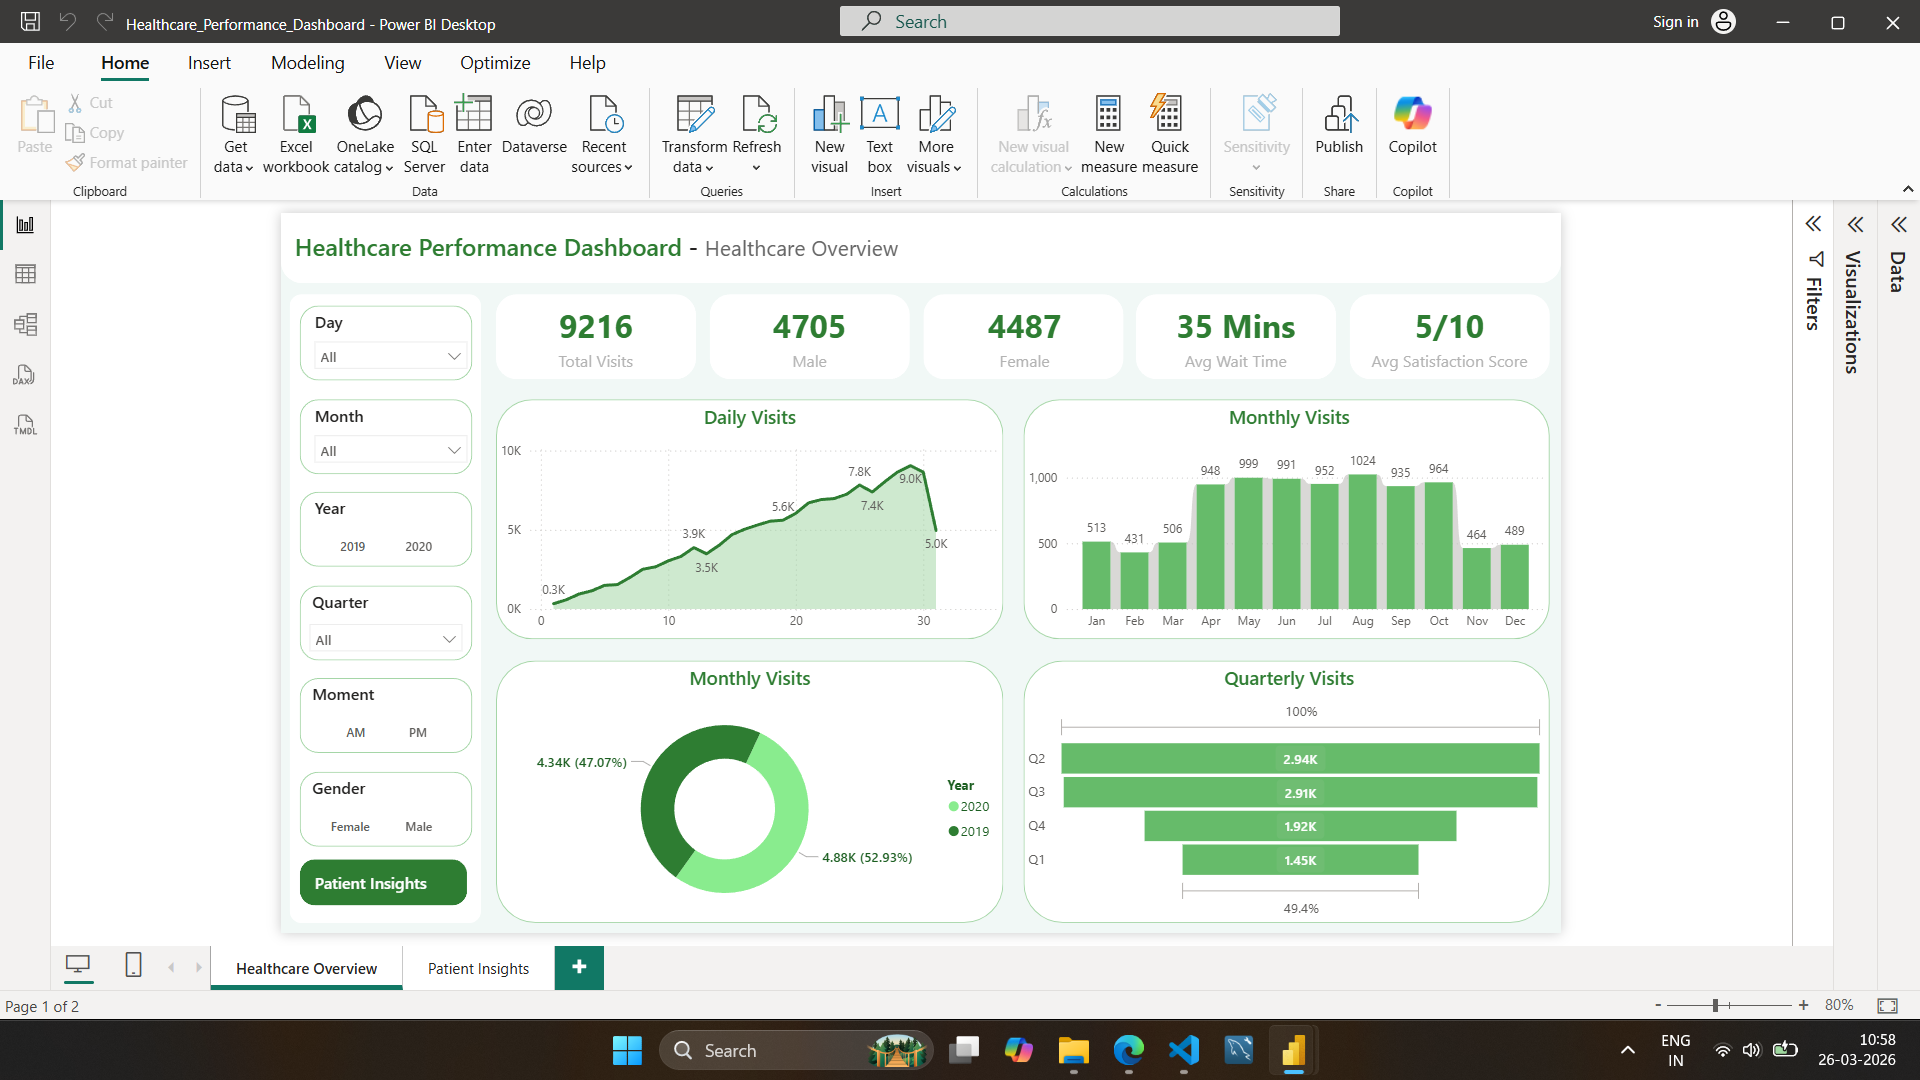

The page's visual inventory and layout, read from the dashboard file:
{"tool":"powerbi","page":{"name":"Healthcare Overview","canvas":[1280,720],"ordinal":0},"visuals":[{"type":"shape","box":[0,0,1280,70],"z":0},{"type":"shape","box":[214.7,81.2,200,85],"z":0,"group":"g1"},{"type":"shape","box":[1069,81.2,200,85],"z":0,"group":"g5"},{"type":"shape","box":[18.8,185.8,172.5,75],"z":0,"group":"g7"},{"type":"shape","box":[18.8,279,172.5,75],"z":0,"group":"g11"},{"type":"shape","box":[18.8,372.2,172.5,75],"z":0,"group":"g8"},{"type":"shape","box":[18.8,465.5,172.5,75],"z":0,"group":"g9"},{"type":"shape","box":[18.7,558.8,172.5,75],"z":0,"group":"g10"},{"type":"card","fields":{"Values":["activity_table.Avg Satisfaction Score"]},"box":[1079,82.4,180,82.5],"z":1000,"group":"g5"},{"type":"shape","box":[742.5,186.2,526.2,240],"z":1000},{"type":"slicer","fields":{"Values":["date_time_table.Month"]},"box":[28.8,217.3,162.5,41.2],"z":1000,"group":"g7"},{"type":"slicer","fields":{"Values":["date_time_table.Year"]},"box":[19.1,312.4,170,41.2],"z":1000,"group":"g11"},{"type":"slicer","fields":{"Values":["date_time_table.Quarter"]},"box":[23.8,406,162.5,41.2],"z":1000,"group":"g8"},{"type":"slicer","fields":{"Values":["date_time_table.Moment"]},"box":[23.8,499.3,162.5,41.2],"z":1000,"group":"g9"},{"type":"slicer","fields":{"Values":["patient_table.Patient_Gender"]},"box":[15.2,592.9,175,41.2],"z":1000,"group":"g10"},{"type":"textbox","box":[28.8,185.8,76.2,33.8],"z":2000,"group":"g7"},{"type":"shape","box":[215,186.2,507.5,240],"z":2000},{"type":"textbox","box":[28.8,279,76.2,33.8],"z":2000,"group":"g11"},{"type":"textbox","box":[26.8,372.2,76.2,33.8],"z":2000,"group":"g8"},{"type":"textbox","box":[26.8,465.5,76.2,33.8],"z":2000,"group":"g9"},{"type":"textbox","box":[26.7,558.8,76.2,33.8],"z":2000,"group":"g10"},{"type":"columnChart","fields":{"Category":["date_time_table.Month"],"Y":["CountNonNull(date_time_table.Month)"]},"box":[742.5,223.8,526.2,202.5],"z":3000},{"type":"card","fields":{"Values":["CountNonNull(patient_table.Patient_Id)"]},"box":[224.7,82.4,180,82.5],"z":4000,"group":"g1"},{"type":"textbox","box":[745,186.2,526.2,37.5],"z":4000},{"type":"lineChart","fields":{"Category":["date_time_table.Day"],"Y":["Sum(date_time_table.Day)"]},"box":[215,223.4,506.2,202.5],"z":5000},{"type":"shape","box":[215,447.5,507.5,262.5],"z":6000},{"type":"shape","box":[8.8,81.2,191.2,628.8],"z":7000},{"type":"shape","box":[18.8,92.5,172.5,75],"z":8000,"group":"g6"},{"type":"textbox","box":[215,186.2,507.5,37.5],"z":8000},{"type":"group","id":"g1","title":"Group 1","box":[214.7,81.2,200,85],"z":9000},{"type":"shape","box":[428.3,81.2,200,85],"z":9000,"group":"g2"},{"type":"slicer","fields":{"Values":["date_time_table.Day"]},"box":[28.8,123.7,162.5,41.2],"z":9000,"group":"g6"},{"type":"group","id":"g2","title":"Group 2","box":[428.3,81.2,200,85],"z":10000},{"type":"shape","box":[641.9,81.2,200,85],"z":10000,"group":"g3"},{"type":"textbox","box":[28.8,92.5,56.2,33.8],"z":10000,"group":"g6"},{"type":"group","id":"g3","title":"Group 3","box":[641.9,81.2,200,85],"z":11000},{"type":"shape","box":[855.4,81.2,200,85],"z":11000,"group":"g4"},{"type":"group","id":"g4","title":"Group 4","box":[855.4,81.2,200,85],"z":12000},{"type":"card","fields":{"Values":["patient_table.MaleGender"]},"box":[438,82.4,180,82.5],"z":12001,"group":"g2"},{"type":"card","fields":{"Values":["patient_table.FemaleGener"]},"box":[652.5,82.4,180,82.5],"z":12002,"group":"g3"},{"type":"card","fields":{"Values":["activity_table.Avg Wait Time"]},"box":[865.7,82.4,180,82.5],"z":12003,"group":"g4"},{"type":"group","id":"g5","title":"Group 5","box":[1069,81.2,200,85],"z":13000},{"type":"group","id":"g6","title":"Group 6","box":[18.8,92.5,172.5,75],"z":14000},{"type":"group","id":"g7","title":"Group 7","box":[18.8,185.8,172.5,75],"z":15000},{"type":"group","id":"g8","title":"Group 9","box":[18.8,372.2,172.5,75],"z":16000},{"type":"group","id":"g9","title":"Group 9","box":[18.8,465.5,172.5,75],"z":17000},{"type":"group","id":"g10","title":"Group 9","box":[15.2,558.8,176,75.3],"z":18000},{"type":"group","id":"g11","title":"Group 7","box":[18.8,279,172.5,75],"z":19000},{"type":"donutChart","fields":{"Y":["CountNonNull(date_time_table.Year)"],"Category":["date_time_table.Year"]},"box":[216.2,482.5,506.2,227.5],"z":20000},{"type":"textbox","box":[215,447.5,507.5,35],"z":21000},{"type":"shape","box":[742.5,447.5,526.2,262.5],"z":22000},{"type":"funnel","fields":{"Category":["date_time_table.Quarter"],"Y":["CountNonNull(date_time_table.Quarter)"]},"box":[742.5,482.5,526.2,227.5],"z":23000},{"type":"textbox","box":[745,447.5,526.2,35],"z":24000},{"type":"actionButton","title":"Patient Insights","box":[18.8,646.2,167.5,46.2],"z":25000},{"type":"textbox","box":[8.8,12.5,631.2,45],"z":26000}]}

Visuals, with their boxes on the page's 1280x720 design canvas (x1, y1, x2, y2). These are canvas units, not pixel positions in the 1920x1080 screenshot, which may show the page scaled, cropped or inside an application window:
shape: {"left": 0, "top": 0, "right": 1280, "bottom": 70}
shape: {"left": 215, "top": 81, "right": 415, "bottom": 166}
shape: {"left": 1069, "top": 81, "right": 1269, "bottom": 166}
shape: {"left": 19, "top": 186, "right": 191, "bottom": 261}
shape: {"left": 19, "top": 279, "right": 191, "bottom": 354}
shape: {"left": 19, "top": 372, "right": 191, "bottom": 447}
shape: {"left": 19, "top": 466, "right": 191, "bottom": 540}
shape: {"left": 19, "top": 559, "right": 191, "bottom": 634}
card - activity_table.Avg Satisfaction Score: {"left": 1079, "top": 82, "right": 1259, "bottom": 165}
shape: {"left": 742, "top": 186, "right": 1269, "bottom": 426}
slicer - date_time_table.Month: {"left": 29, "top": 217, "right": 191, "bottom": 258}
slicer - date_time_table.Year: {"left": 19, "top": 312, "right": 189, "bottom": 354}
slicer - date_time_table.Quarter: {"left": 24, "top": 406, "right": 186, "bottom": 447}
slicer - date_time_table.Moment: {"left": 24, "top": 499, "right": 186, "bottom": 540}
slicer - patient_table.Patient_Gender: {"left": 15, "top": 593, "right": 190, "bottom": 634}
textbox: {"left": 29, "top": 186, "right": 105, "bottom": 220}
shape: {"left": 215, "top": 186, "right": 722, "bottom": 426}
textbox: {"left": 29, "top": 279, "right": 105, "bottom": 313}
textbox: {"left": 27, "top": 372, "right": 103, "bottom": 406}
textbox: {"left": 27, "top": 466, "right": 103, "bottom": 499}
textbox: {"left": 27, "top": 559, "right": 103, "bottom": 593}
columnChart - date_time_table.Month x CountNonNull(date_time_table.Month): {"left": 742, "top": 224, "right": 1269, "bottom": 426}
card - CountNonNull(patient_table.Patient_Id): {"left": 225, "top": 82, "right": 405, "bottom": 165}
textbox: {"left": 745, "top": 186, "right": 1271, "bottom": 224}
lineChart - date_time_table.Day x Sum(date_time_table.Day): {"left": 215, "top": 223, "right": 721, "bottom": 426}
shape: {"left": 215, "top": 448, "right": 722, "bottom": 710}
shape: {"left": 9, "top": 81, "right": 200, "bottom": 710}
shape: {"left": 19, "top": 92, "right": 191, "bottom": 168}
textbox: {"left": 215, "top": 186, "right": 722, "bottom": 224}
"Group 1" group: {"left": 215, "top": 81, "right": 415, "bottom": 166}
shape: {"left": 428, "top": 81, "right": 628, "bottom": 166}
slicer - date_time_table.Day: {"left": 29, "top": 124, "right": 191, "bottom": 165}
"Group 2" group: {"left": 428, "top": 81, "right": 628, "bottom": 166}
shape: {"left": 642, "top": 81, "right": 842, "bottom": 166}
textbox: {"left": 29, "top": 92, "right": 85, "bottom": 126}
"Group 3" group: {"left": 642, "top": 81, "right": 842, "bottom": 166}
shape: {"left": 855, "top": 81, "right": 1055, "bottom": 166}
"Group 4" group: {"left": 855, "top": 81, "right": 1055, "bottom": 166}
card - patient_table.MaleGender: {"left": 438, "top": 82, "right": 618, "bottom": 165}
card - patient_table.FemaleGener: {"left": 652, "top": 82, "right": 832, "bottom": 165}
card - activity_table.Avg Wait Time: {"left": 866, "top": 82, "right": 1046, "bottom": 165}
"Group 5" group: {"left": 1069, "top": 81, "right": 1269, "bottom": 166}
"Group 6" group: {"left": 19, "top": 92, "right": 191, "bottom": 168}
"Group 7" group: {"left": 19, "top": 186, "right": 191, "bottom": 261}
"Group 9" group: {"left": 19, "top": 372, "right": 191, "bottom": 447}
"Group 9" group: {"left": 19, "top": 466, "right": 191, "bottom": 540}
"Group 9" group: {"left": 15, "top": 559, "right": 191, "bottom": 634}
"Group 7" group: {"left": 19, "top": 279, "right": 191, "bottom": 354}
donutChart - CountNonNull(date_time_table.Year) x date_time_table.Year: {"left": 216, "top": 482, "right": 722, "bottom": 710}
textbox: {"left": 215, "top": 448, "right": 722, "bottom": 482}
shape: {"left": 742, "top": 448, "right": 1269, "bottom": 710}
funnel - date_time_table.Quarter x CountNonNull(date_time_table.Quarter): {"left": 742, "top": 482, "right": 1269, "bottom": 710}
textbox: {"left": 745, "top": 448, "right": 1271, "bottom": 482}
"Patient Insights" actionButton: {"left": 19, "top": 646, "right": 186, "bottom": 692}
textbox: {"left": 9, "top": 12, "right": 640, "bottom": 58}
